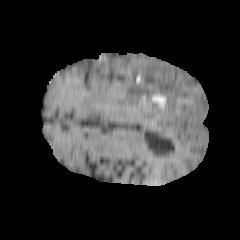glioma: (94, 57, 187, 128)
